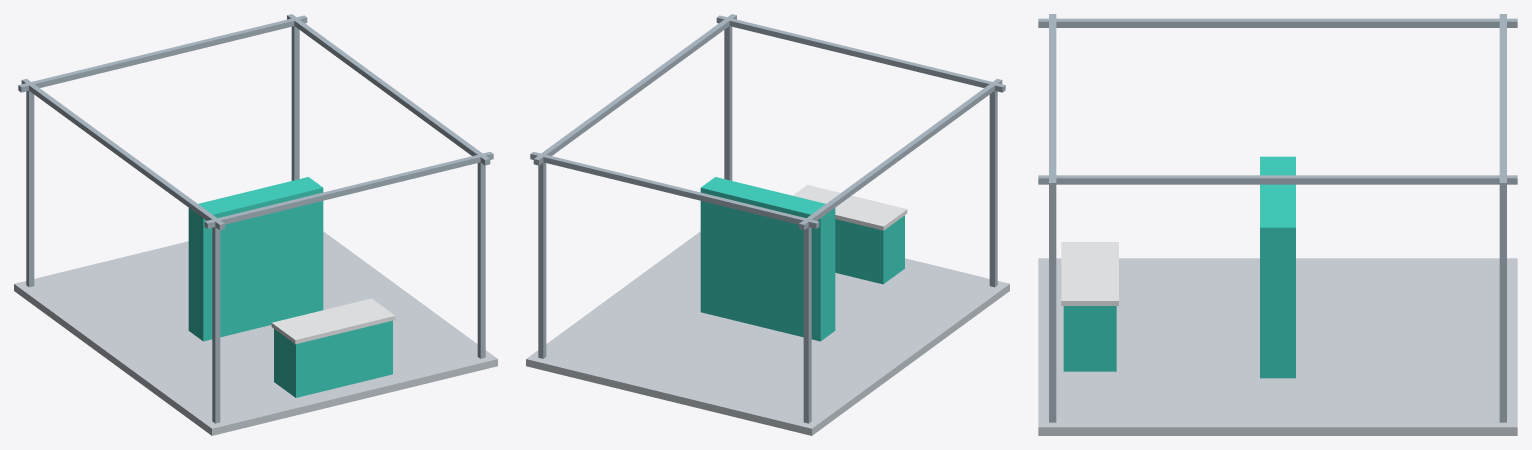
The picture shows the model from 3 angles, left to right: view 1: azimuth 30°, elevation 25°; view 2: azimuth 150°, elevation 25°; view 3: azimuth 270°, elevation 25°; orthographic projection. The views are drawn at different scales.
Visible parts, largest first — view 1: Exhibition Booth Concept; view 2: Exhibition Booth Concept; view 3: Exhibition Booth Concept.
Part boxes in pixels (<box>): Exhibition Booth Concept: <box>14,14,497,435</box>; Exhibition Booth Concept: <box>526,14,1009,435</box>; Exhibition Booth Concept: <box>1038,14,1517,435</box>.
Bounding box in the file's own units: 5 × 3.49 × 6.
